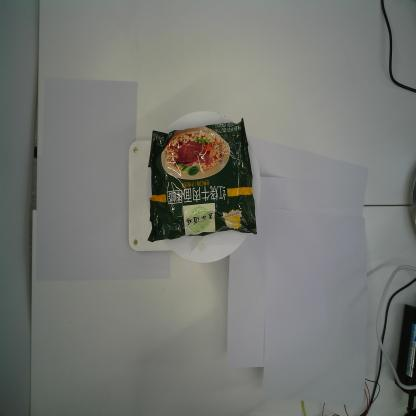Instant Noodles: (144, 114, 259, 245)
